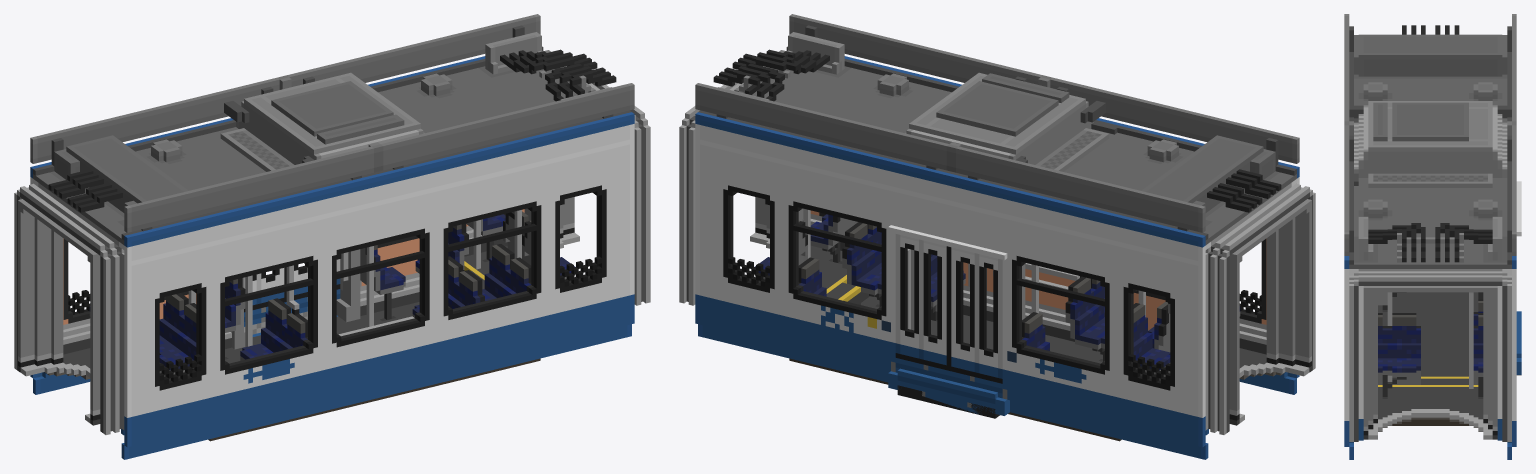
File: tram20003middle.obj
3 renders of one model, left to right at view 1: azimuth 30°, elevation 25°; view 2: azimuth 150°, elevation 25°; view 3: azimuth 270°, elevation 25°, orthographic. The views are drawn at different scales.
Parts seen in each view (by area): view 1: FRAME, INTERIOR, WIDGET_1_CG_df; view 2: FRAME, INTERIOR, WIDGET_1_CG_df, DOOR_1_CG_df, DOOR_2_EXTERNAL_CG_df_TL_-0.625_X, DOOR_3_EXTERNAL_CG_df_TL_0.625_X, DOOR_4_CG_df, DOOR_4_ROT_-90, DOOR_3_ROT_90, WIDGET_1_ROT_-90_invisible; view 3: FRAME, INTERIOR, WIDGET_1_CG_df.
Part boxes in pixels (box(x1,y1,x2,y2)): FRAME: box(14, 14, 650, 459); INTERIOR: box(18, 192, 599, 425); WIDGET_1_CG_df: box(244, 289, 340, 334); FRAME: box(679, 14, 1315, 459); INTERIOR: box(730, 192, 1311, 425); WIDGET_1_CG_df: box(895, 358, 1002, 414); DOOR_1_CG_df: box(974, 253, 997, 382); DOOR_2_EXTERNAL_CG_df_TL_-0.625_X: box(951, 247, 974, 376); DOOR_3_EXTERNAL_CG_df_TL_0.625_X: box(923, 240, 946, 369); DOOR_4_CG_df: box(900, 235, 923, 364); DOOR_4_ROT_-90: box(895, 234, 900, 358); DOOR_3_ROT_90: box(946, 246, 951, 370); WIDGET_1_ROT_-90_invisible: box(897, 385, 999, 418); FRAME: box(1344, 14, 1521, 459); INTERIOR: box(1363, 286, 1497, 439); WIDGET_1_CG_df: box(1516, 311, 1521, 357).
Bounding box in the file's own units: 7.44 × 3.38 × 2.31.
Materials: 1 (1 with a texture image).
